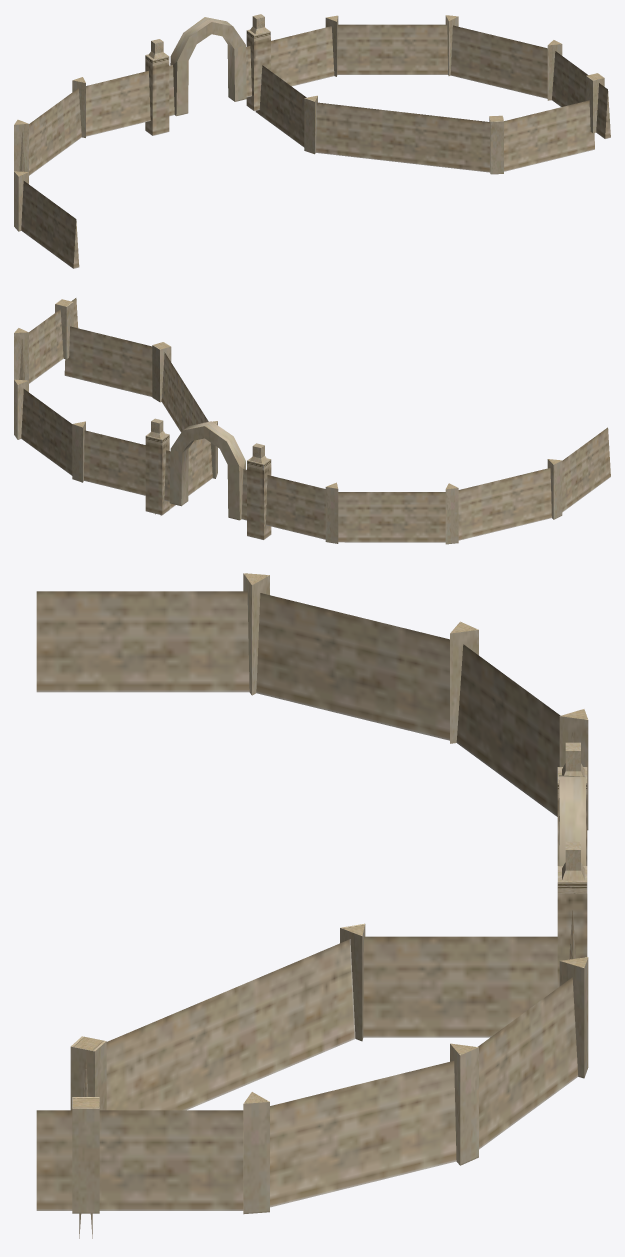
Rendered from poi_nboo_corral_half_64x64_s02_l1.fbx.
3 renders of one model, top to bottom at view 1: azimuth 30°, elevation 25°; view 2: azimuth 150°, elevation 25°; view 3: azimuth 270°, elevation 25°, orthographic. The views are drawn at different scales.
Visible parts, largest first — view 1: mesh_node; view 2: mesh_node; view 3: mesh_node.
Boxes of the visible parts, box(x1,y1,x2,y2) form: mesh_node: box(14, 14, 610, 268); mesh_node: box(14, 298, 610, 544); mesh_node: box(36, 573, 588, 1238).
Bounding box in the file's own units: 46.43 × 8.5 × 20.4.
